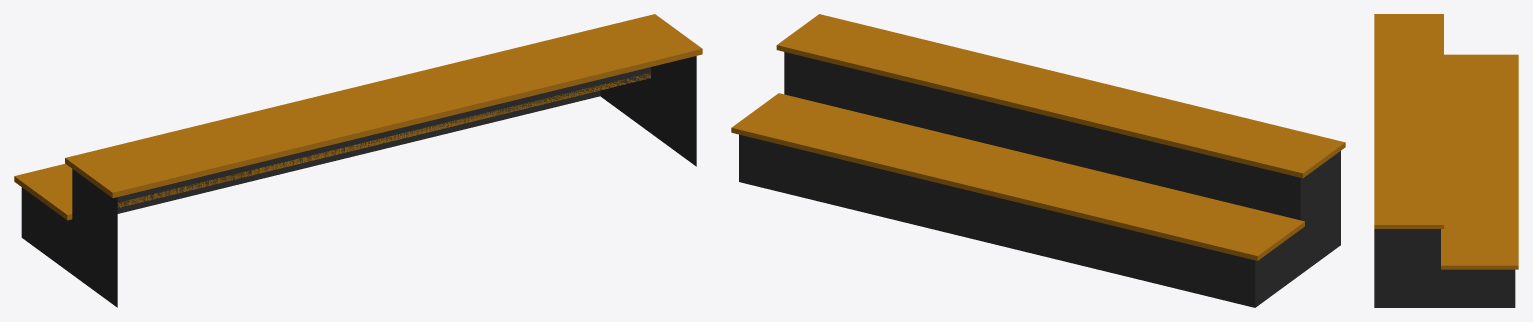
Rendered from ghekhangia.fbx.
3 views of the same model, side by side, from view 1: azimuth 30°, elevation 25°; view 2: azimuth 150°, elevation 25°; view 3: azimuth 270°, elevation 25° (orthographic). The views are drawn at different scales.
Visible parts, largest first — view 1: ghekhangia; view 2: ghekhangia; view 3: ghekhangia.
Boxes of the visible parts, <box> form: ghekhangia: <box>14,14,702,307</box>; ghekhangia: <box>731,14,1345,307</box>; ghekhangia: <box>1374,14,1518,307</box>.
Size of the model in its own units: 1114 by 210 by 322.
